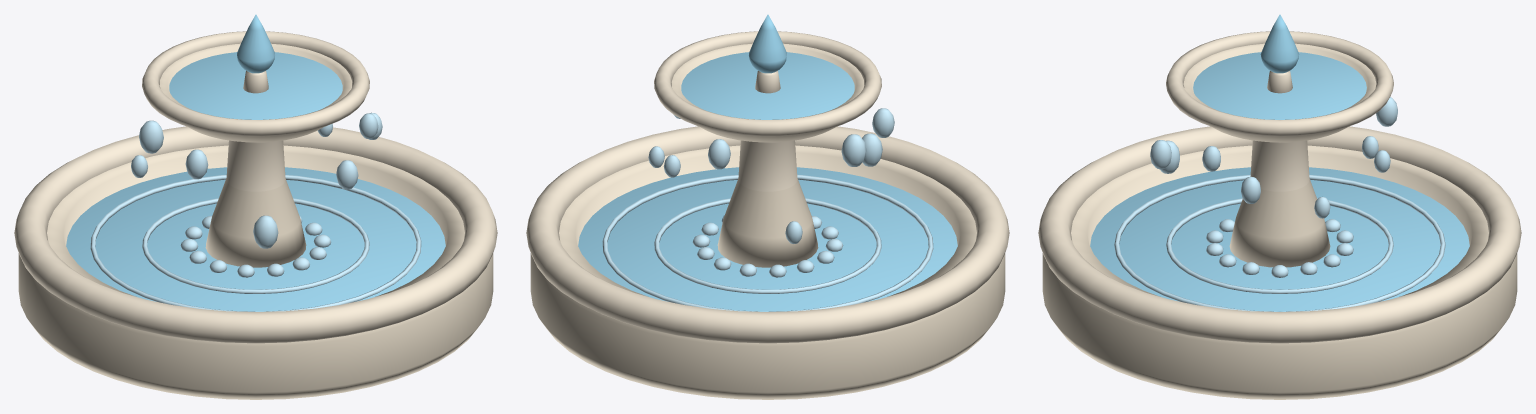
The model's file is fountain.glb.
The picture shows the model from 3 angles, left to right: view 1: azimuth 30°, elevation 25°; view 2: azimuth 150°, elevation 25°; view 3: azimuth 270°, elevation 25°; orthographic projection.
Parts seen in each view (by area): view 1: fountain; view 2: fountain; view 3: fountain.
Boxes of the visible parts, left/top/right/bottom form: fountain: left=14, top=14, right=497, bottom=399; fountain: left=526, top=14, right=1009, bottom=399; fountain: left=1038, top=14, right=1521, bottom=399.
Bounding box in the file's own units: 3.26 × 2.15 × 3.26.
1 material, 1 textured.
